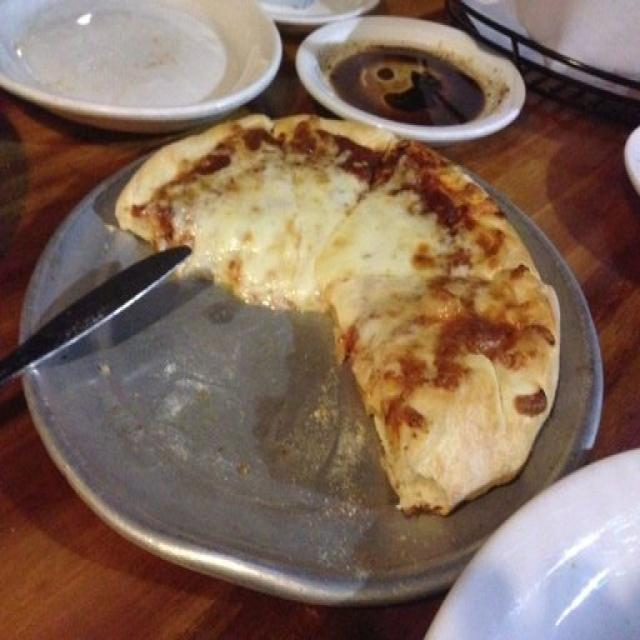Cheese: (237, 203, 380, 277)
Pizza: (111, 115, 556, 518)
